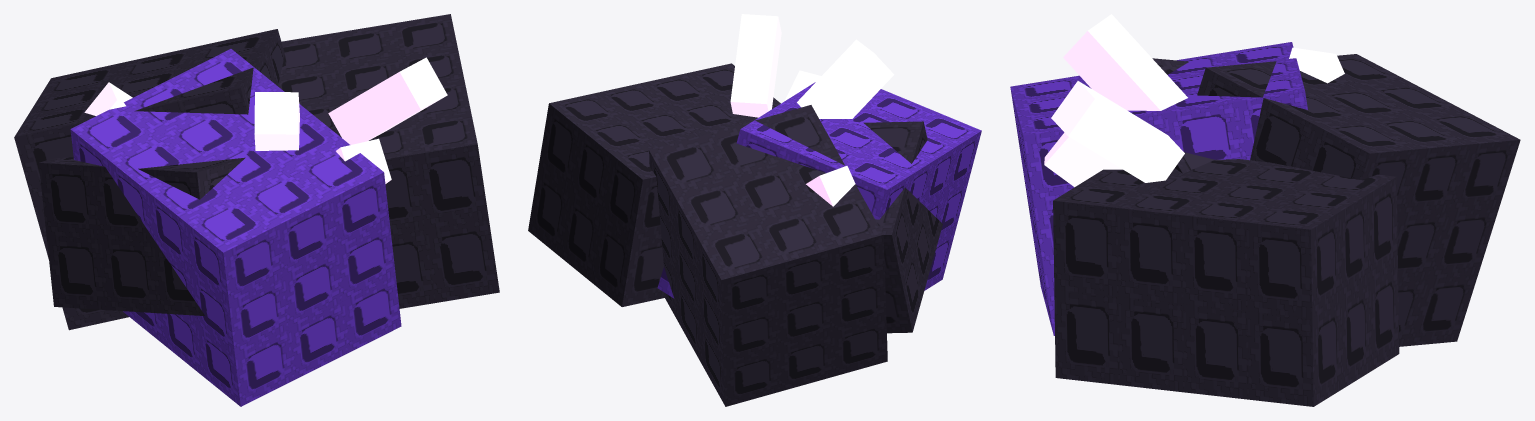
Rendered from MeteorChunk.fbx.
3 views of the same model, side by side, from view 1: azimuth 30°, elevation 25°; view 2: azimuth 150°, elevation 25°; view 3: azimuth 270°, elevation 25° (orthographic). The views are drawn at different scales.
Visible parts, largest first — view 1: MeteorChunk, MeteorChunk_Glow; view 2: MeteorChunk, MeteorChunk_Glow; view 3: MeteorChunk, MeteorChunk_Glow.
Part boxes in pixels (left/top/right/bottom): MeteorChunk: left=14, top=14, right=499, bottom=406; MeteorChunk_Glow: left=84, top=57, right=447, bottom=183; MeteorChunk: left=528, top=63, right=981, bottom=406; MeteorChunk_Glow: left=730, top=14, right=894, bottom=206; MeteorChunk: left=1010, top=42, right=1520, bottom=406; MeteorChunk_Glow: left=1044, top=14, right=1344, bottom=187.
Bounding box in the file's own units: 698 × 458 × 660.
2 materials, 1 textured.
